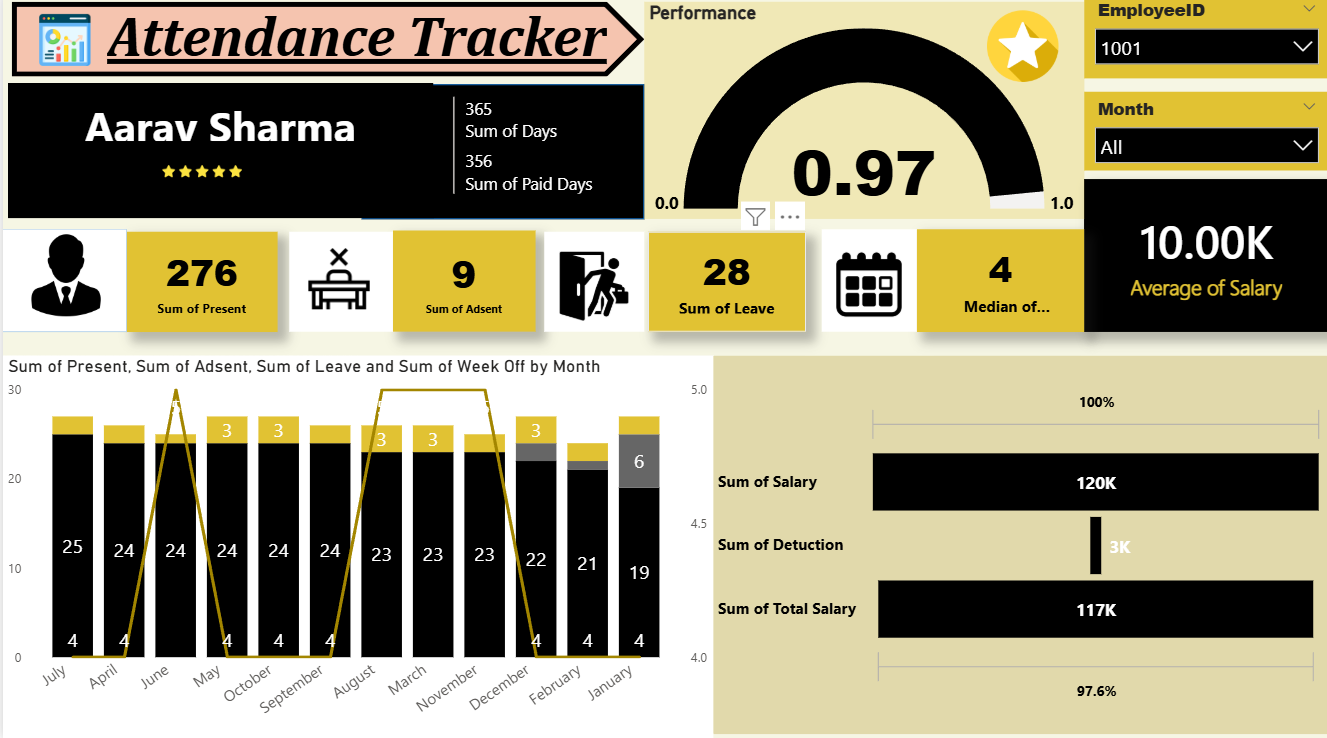

What the dashboard file says about the page in this screenshot:
{"tool":"powerbi","page":{"name":"Page 1","canvas":[1280,720],"ordinal":0},"visuals":[{"type":"shape","box":[346.2,88.1,272.7,130.3],"z":0},{"type":"shape","box":[685.3,349.9,594.8,365.6],"z":1000},{"type":"lineStackedColumnComboChart","fields":{"Category":["yearlyReport.Month"],"Y":["yearlyReport.Present","yearlyReport.Adsent","yearlyReport.Leave"],"Y2":["yearlyReport.Week Off"]},"box":[0,349.9,685.3,370.4],"z":2000},{"type":"funnel","fields":{"Y":["yearlyReport.Salary","yearlyReport.Detuction ","yearlyReport.Total Salary"]},"box":[685.3,349.9,594.8,365.6],"z":3000},{"type":"cardVisual","fields":{"Data":["yearlyReport.Present"]},"box":[119.4,230.4,146,96.5],"z":4000},{"type":"cardVisual","fields":{"Data":["yearlyReport.Salary"]},"box":[1043.6,179.8,236.5,147.2],"z":5000},{"type":"slicer","fields":{"Values":["yearlyReport.EmployeeID"]},"box":[1043.6,0,236.5,82],"z":6000},{"type":"slicer","fields":{"Values":["yearlyReport.Month"]},"box":[1043.6,95.3,236.5,76],"z":7000},{"type":"multiRowCard","fields":{"Values":["yearlyReport.Days","yearlyReport.Paid Days"]},"box":[429.5,95.3,168.9,114.6],"z":8000},{"type":"gauge","title":" Performance","fields":{"Y":["yearlyReport.Performance"]},"box":[618.9,8.4,424.7,209.9],"z":9000},{"type":"image","box":[209.9,109.8,85.1,70],"z":10000},{"type":"cardVisual","fields":{"Rows":["yearlyReport.EmployeeName"]},"box":[4.8,86.9,410.2,130.3],"z":11000},{"type":"shape","box":[0,228,119.4,98.9],"z":12000},{"type":"cardVisual","fields":{"Data":["yearlyReport.Adsent"]},"box":[376.4,229.2,137.5,97.7],"z":13000},{"type":"shape","box":[276.3,230.4,100.1,96.5],"z":14000},{"type":"cardVisual","fields":{"Data":["yearlyReport.Leave"]},"box":[622.5,230.4,152,96.5],"z":15000},{"type":"shape","box":[522.4,230.4,96.5,96.5],"z":16000},{"type":"cardVisual","fields":{"Data":["yearlyReport.Week Off"]},"box":[881.9,228,161.7,98.9],"z":17000},{"type":"shape","box":[790.2,228,91.7,98.9],"z":18000},{"type":"image","box":[11,233.3,100.2,79.6],"z":19000},{"type":"image","box":[285.4,245.6,76.8,59],"z":20000},{"type":"image","box":[528.4,249.7,84.5,66.4],"z":21000},{"type":"image","box":[789,249.7,93.3,63.1],"z":22000},{"type":"image","box":[938.6,14.5,91.7,73.6],"z":23000},{"type":"image","box":[26.5,120.6,330.6,102.5],"z":24000},{"type":"shape","box":[8.4,8.4,610.5,72.4],"z":24001},{"type":"image","box":[20.5,19.3,78.4,51.9],"z":24002}]}

Visuals, with their boxes in screenshot pixels (x1, y1, x2, y2), scaled from the page's 1280x720 canvas onto the 1327x738 screenshot:
shape: [359,90,642,224]
shape: [710,359,1326,733]
lineStackedColumnComboChart - yearlyReport.Month x yearlyReport.Present: [0,359,710,737]
funnel - yearlyReport.Salary x yearlyReport.Detuction : [710,359,1326,733]
cardVisual - yearlyReport.Present: [124,236,275,335]
cardVisual - yearlyReport.Salary: [1082,184,1326,335]
slicer - yearlyReport.EmployeeID: [1082,0,1326,84]
slicer - yearlyReport.Month: [1082,98,1326,176]
multiRowCard - yearlyReport.Days x yearlyReport.Paid Days: [445,98,620,215]
" Performance" gauge: [642,9,1082,224]
image: [218,113,306,184]
cardVisual - yearlyReport.EmployeeName: [5,89,430,223]
shape: [0,234,124,335]
cardVisual - yearlyReport.Adsent: [390,235,533,335]
shape: [286,236,390,335]
cardVisual - yearlyReport.Leave: [645,236,803,335]
shape: [542,236,642,335]
cardVisual - yearlyReport.Week Off: [914,234,1082,335]
shape: [819,234,914,335]
image: [11,239,115,321]
image: [296,252,375,312]
image: [548,256,635,324]
image: [818,256,915,321]
image: [973,15,1068,90]
image: [27,124,370,229]
shape: [9,9,642,83]
image: [21,20,103,73]
